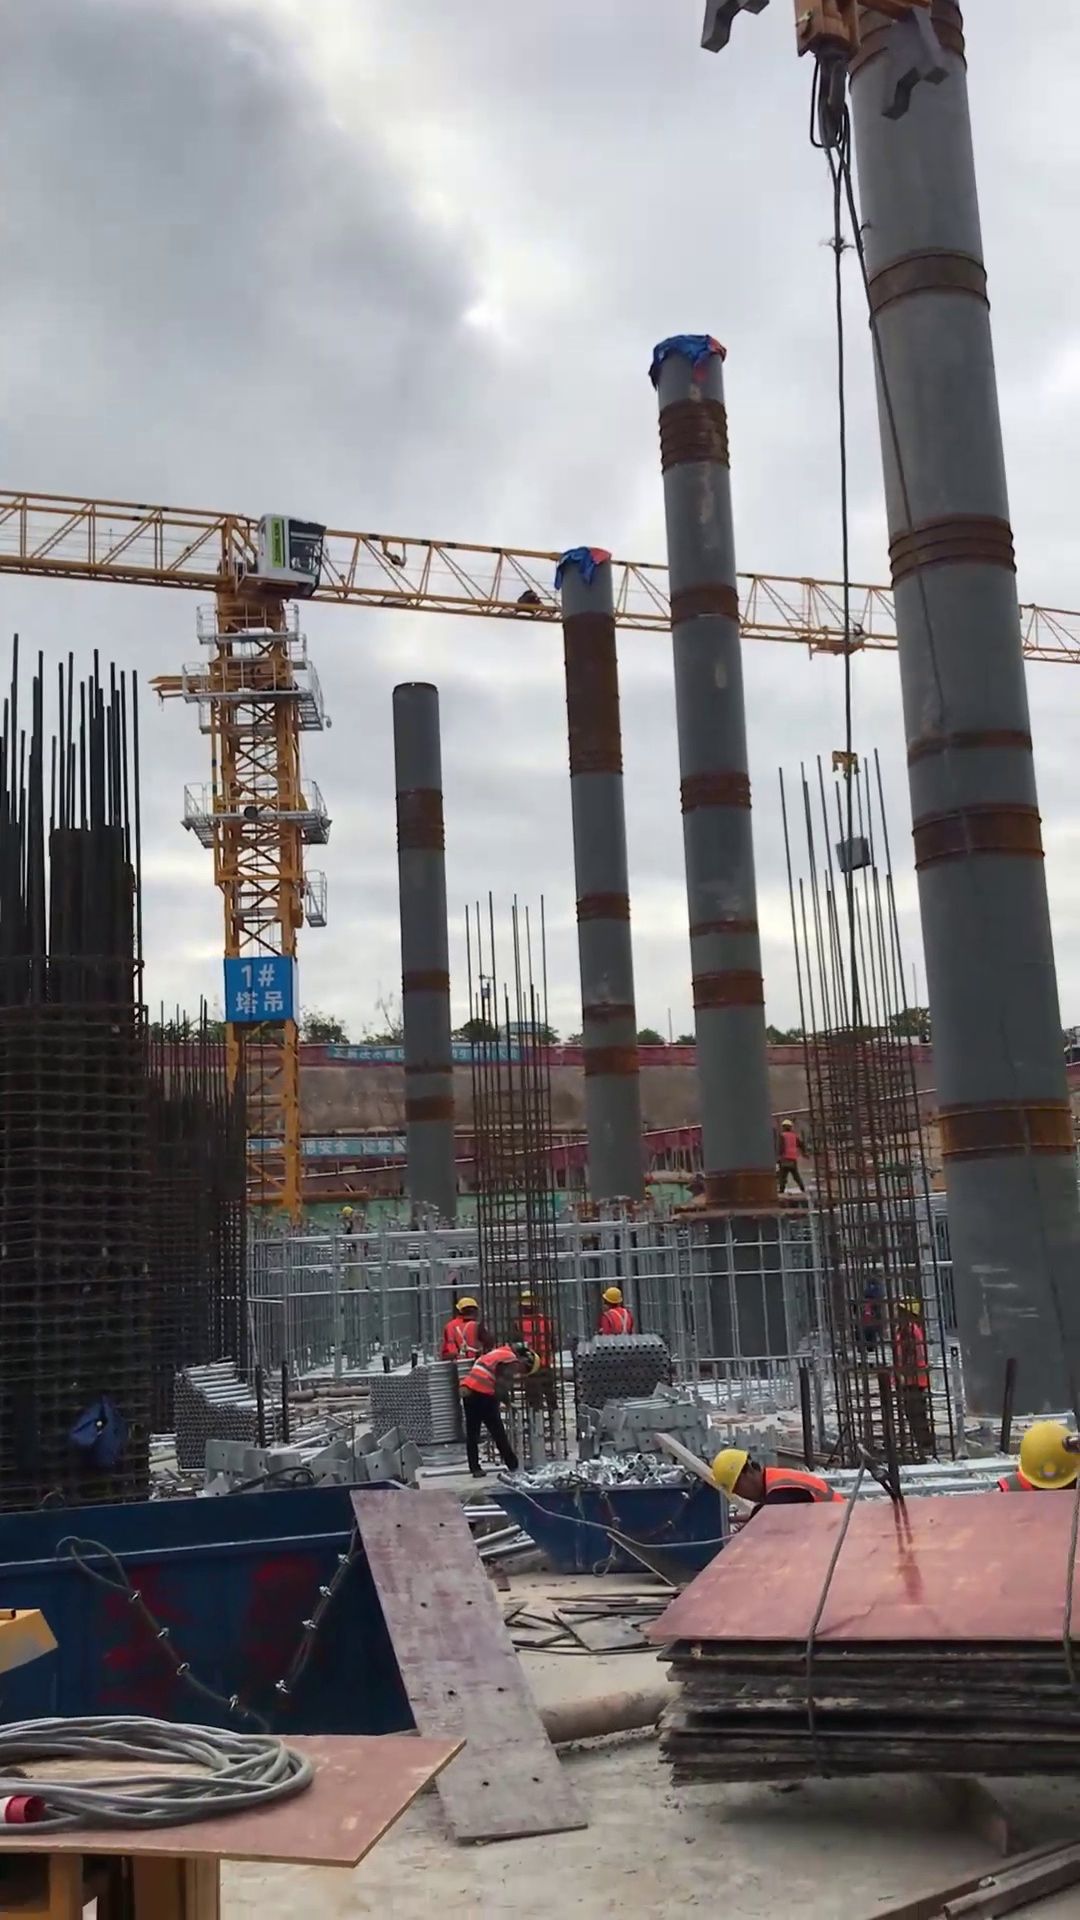board: (652, 1482, 1080, 1798)
helmet: (1015, 1419, 1080, 1490), (710, 1444, 751, 1504), (526, 1346, 549, 1379), (599, 1286, 628, 1306), (450, 1297, 479, 1317), (779, 1115, 799, 1128)
hook: (830, 748, 864, 779)
hopper: (1, 1475, 402, 1755), (499, 1472, 735, 1591)
person: (464, 1336, 547, 1485), (708, 1440, 851, 1518), (983, 1414, 1080, 1507), (436, 1292, 497, 1367), (772, 1113, 815, 1201), (592, 1281, 642, 1346)
scaffold: (164, 1356, 289, 1471), (367, 1360, 457, 1451), (571, 1333, 676, 1408)
slogan: (299, 1133, 411, 1157), (324, 1040, 409, 1063)
vest: (762, 1451, 844, 1507), (464, 1343, 519, 1406), (443, 1317, 485, 1361), (990, 1468, 1035, 1501), (600, 1306, 633, 1338), (780, 1129, 803, 1171)
